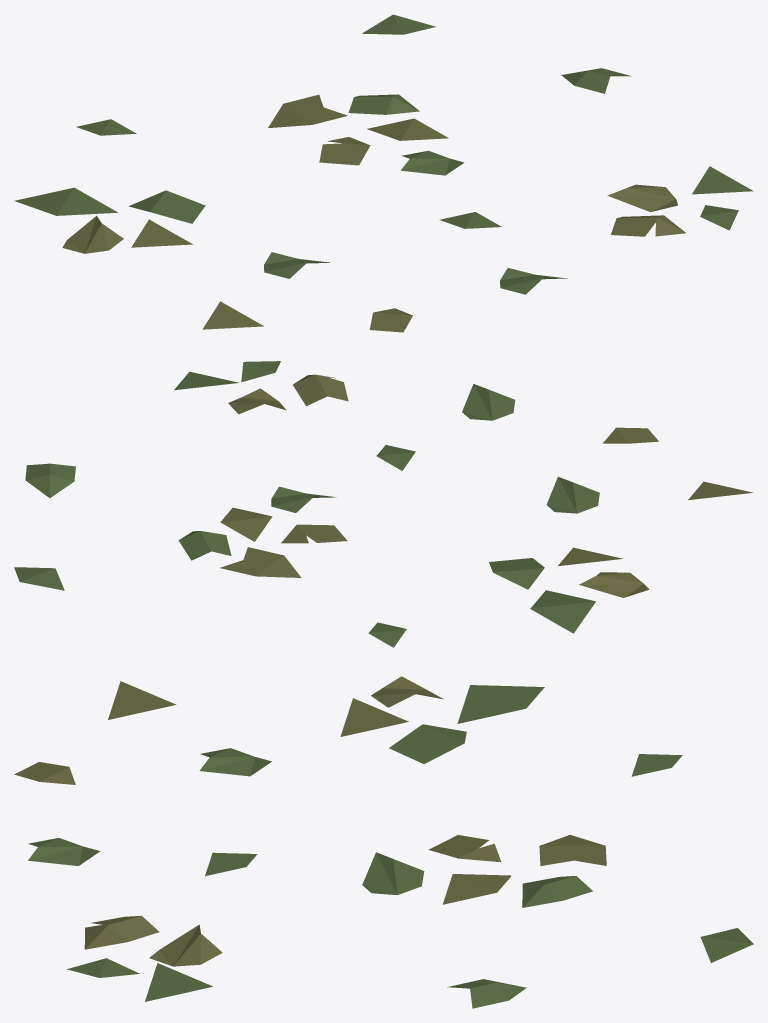
Rendered from SM_Envr_Nature_Plant_Leaves_02.fbx.
3 renders of one model, top to bottom at view 1: azimuth 30°, elevation 25°; view 2: azimuth 150°, elevation 25°; view 3: azimuth 270°, elevation 25°, orthographic. The views are drawn at different scales.
Visible parts, largest first — view 1: SM_Envr_Nature_Plant_Leaves_02; view 2: SM_Envr_Nature_Plant_Leaves_02; view 3: SM_Envr_Nature_Plant_Leaves_02.
Part boxes in pixels (x1,y1,x2,y2): SM_Envr_Nature_Plant_Leaves_02: [14, 14, 753, 332]; SM_Envr_Nature_Plant_Leaves_02: [14, 361, 752, 647]; SM_Envr_Nature_Plant_Leaves_02: [14, 676, 753, 1008].
Bounding box in the file's own units: 353 × 8.12 × 329.
